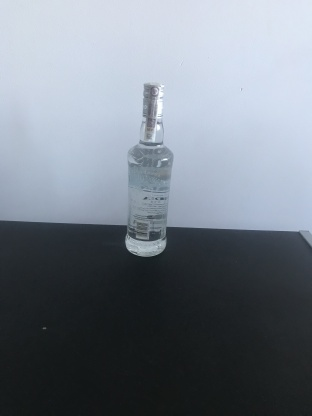nakretka: (140, 78, 166, 122)
